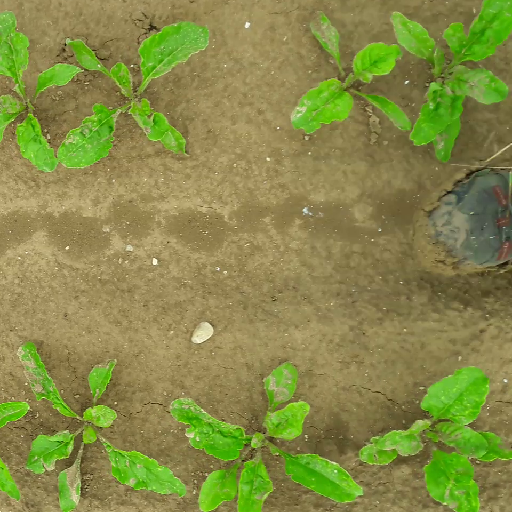sugarbeet: (163, 353, 367, 512), (14, 341, 187, 512), (54, 19, 214, 172), (356, 364, 512, 510), (387, 1, 511, 165), (290, 5, 414, 140), (1, 7, 79, 173)
